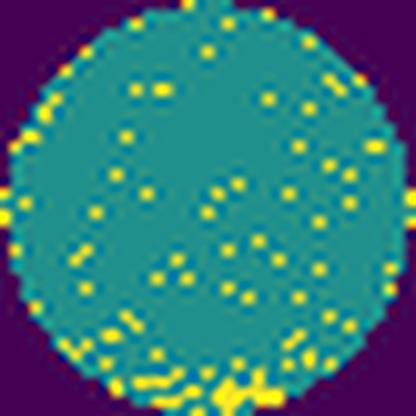Edge-Loc: (209, 364, 287, 416)
